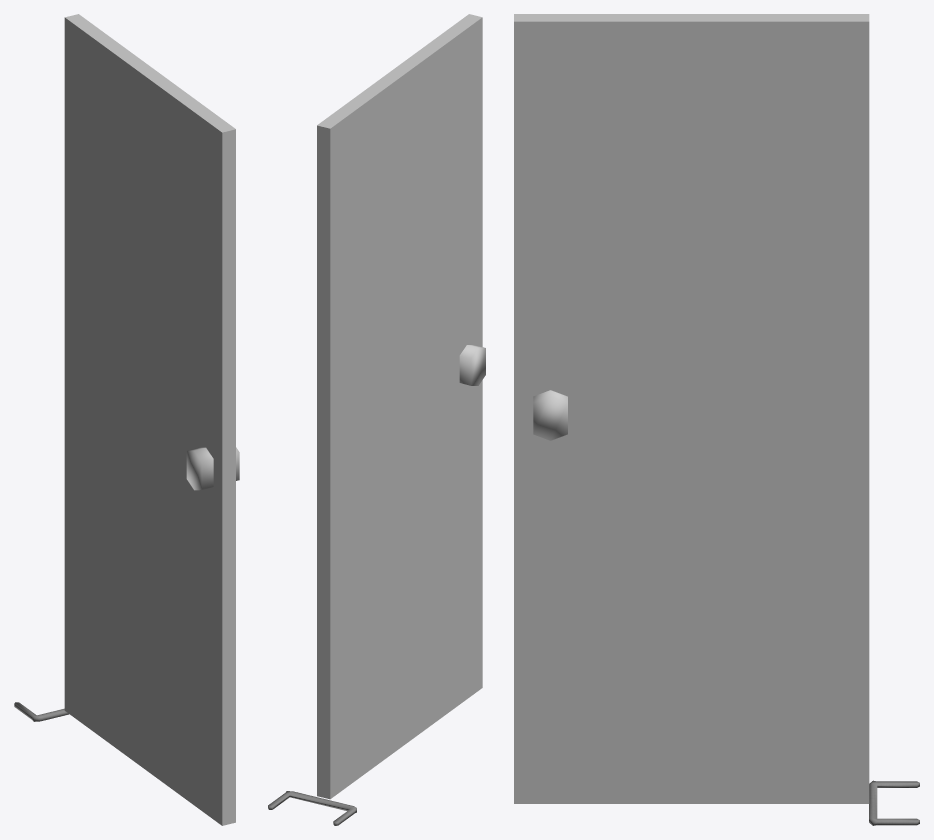
Rendered from Door.fbx.
The picture shows the model from 3 angles, left to right: view 1: azimuth 30°, elevation 25°; view 2: azimuth 150°, elevation 25°; view 3: azimuth 270°, elevation 25°; orthographic projection. The views are drawn at different scales.
Visible parts, largest first — view 1: Door; view 2: Door, DoorHandle; view 3: Door, DoorHandle.
Boxes of the visible parts, bbox=[...] form: Door: bbox=[64, 14, 239, 825]; Door: bbox=[317, 14, 485, 799]; DoorHandle: bbox=[268, 791, 356, 825]; Door: bbox=[514, 14, 869, 803]; DoorHandle: bbox=[869, 780, 919, 825].
Bounding box in the file's own units: 26.02 × 240 × 112.
